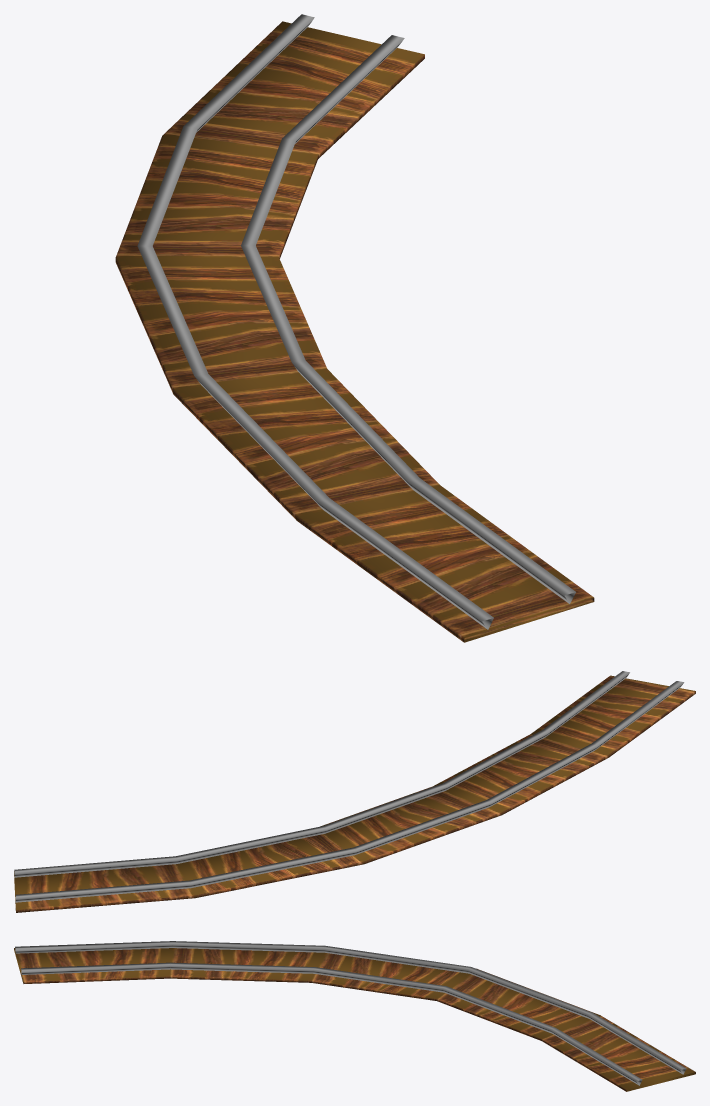
Rendered from SWORDLIGHT20_TRACK6.fbx.
3 views of the same model, one above another, from view 1: azimuth 30°, elevation 25°; view 2: azimuth 150°, elevation 25°; view 3: azimuth 270°, elevation 25° (orthographic). The views are drawn at different scales.
Parts seen in each view (by area): view 1: SWORDLIGHT20_TRACK6; view 2: SWORDLIGHT20_TRACK6; view 3: SWORDLIGHT20_TRACK6.
Part boxes in pixels (x1,y1,x2,y2): SWORDLIGHT20_TRACK6: (115, 14, 594, 642); SWORDLIGHT20_TRACK6: (14, 671, 695, 912); SWORDLIGHT20_TRACK6: (14, 941, 695, 1091).
Size of the model in its own units: 67537 by 3807 by 137262.
2 materials, 2 textured.
